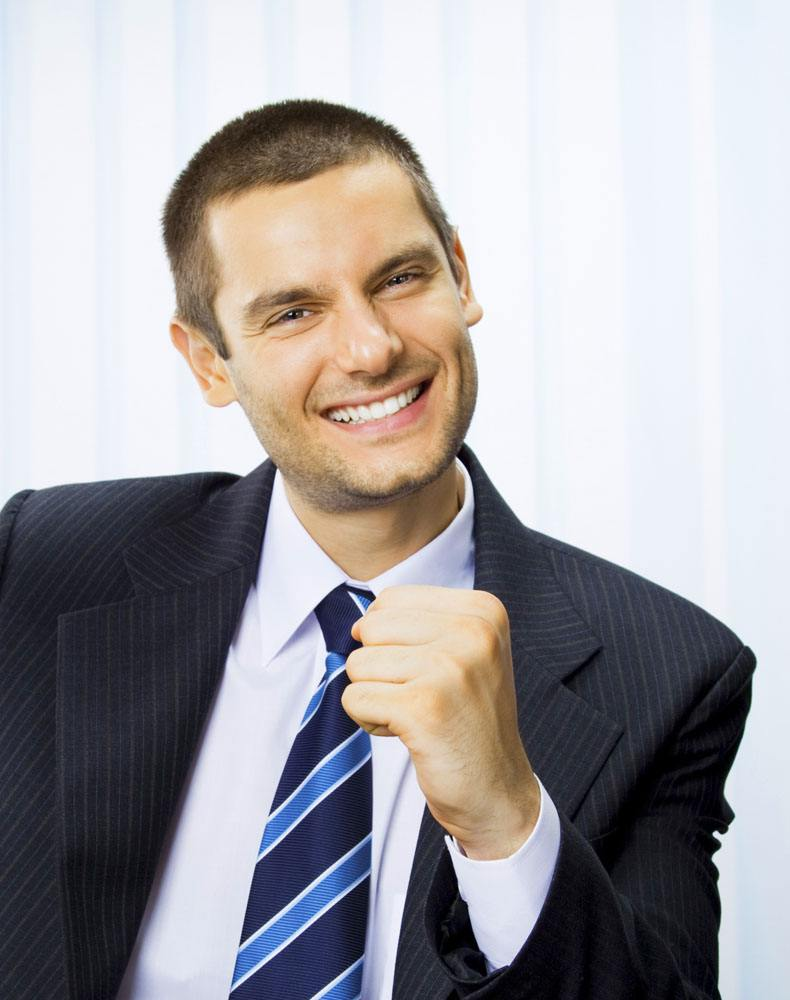no-phone: (335, 584, 533, 836)
